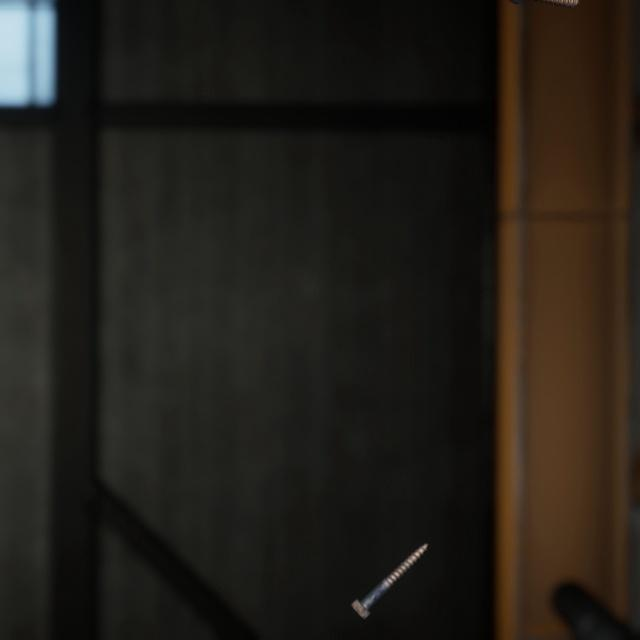bolt: (346, 516, 433, 601)
